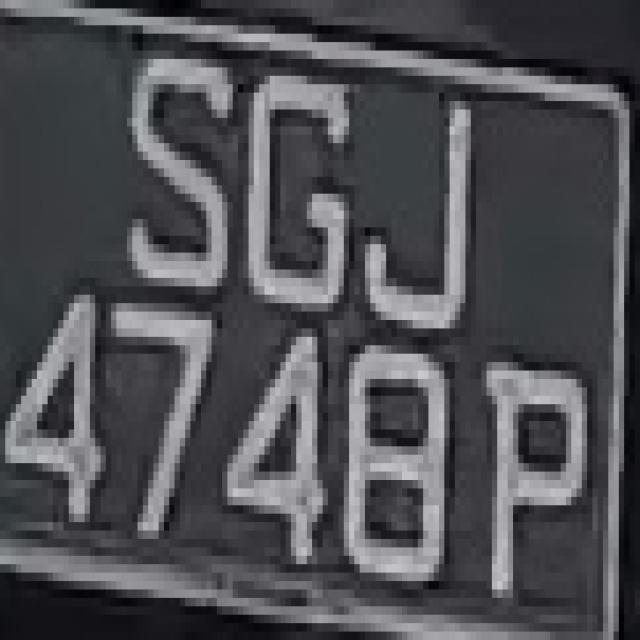4: (5, 245, 116, 548), (222, 278, 333, 564)
7: (106, 252, 222, 572)
8: (338, 311, 471, 598)
G: (217, 42, 360, 345)
J: (349, 59, 487, 345)
P: (470, 320, 598, 623)
S: (100, 17, 248, 311)
